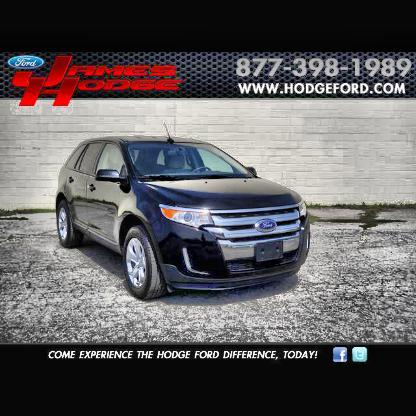Ford Edge SUV 2012: (54, 122, 312, 297)
